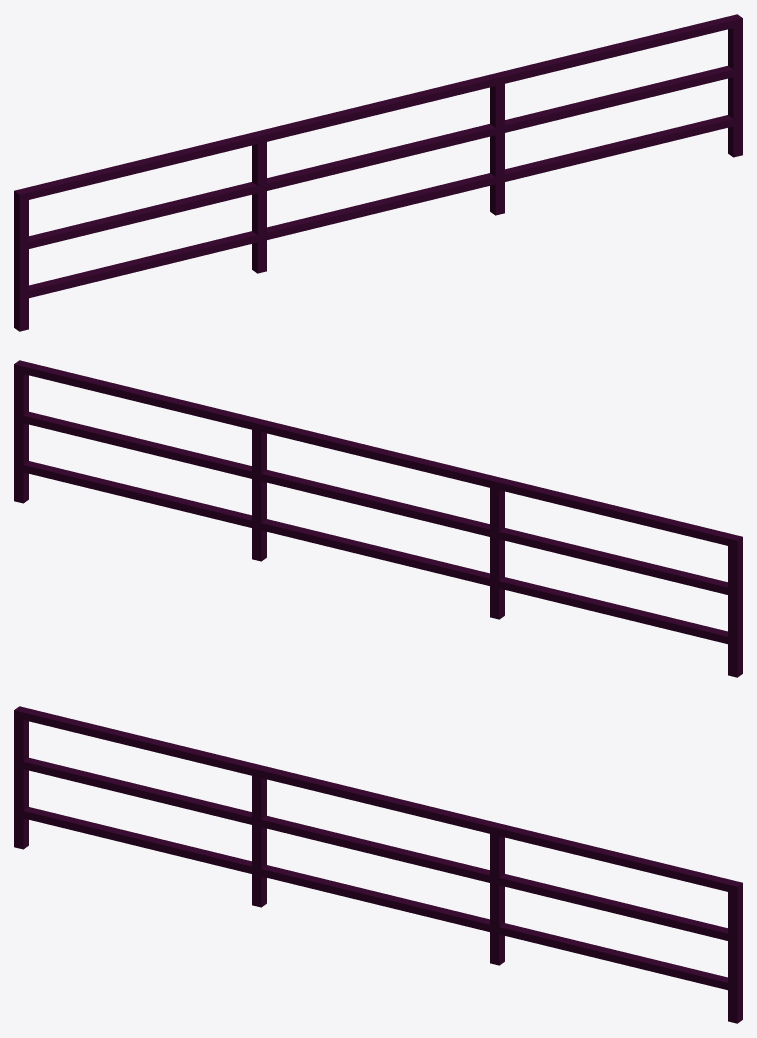
The model's file is quay_rail.glb.
The picture shows the model from 3 angles, top to bottom: view 1: azimuth 30°, elevation 25°; view 2: azimuth 150°, elevation 25°; view 3: azimuth 330°, elevation 25°; orthographic projection.
Visible parts, largest first — view 1: quay_rail; view 2: quay_rail; view 3: quay_rail.
Part boxes in pixels (box(x1,y1,x2,y2)): quay_rail: box(14, 14, 742, 331); quay_rail: box(14, 360, 742, 677); quay_rail: box(14, 706, 742, 1023).
Bounding box in the file's own units: 6.08 × 1.1 × 0.0802.
